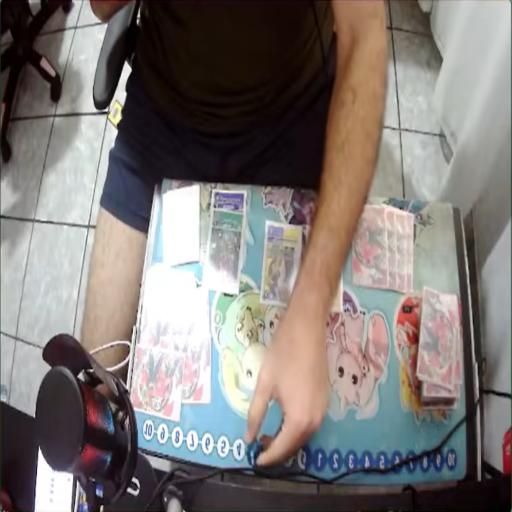card: (260, 220, 302, 318), (204, 216, 246, 294), (208, 192, 247, 216)
